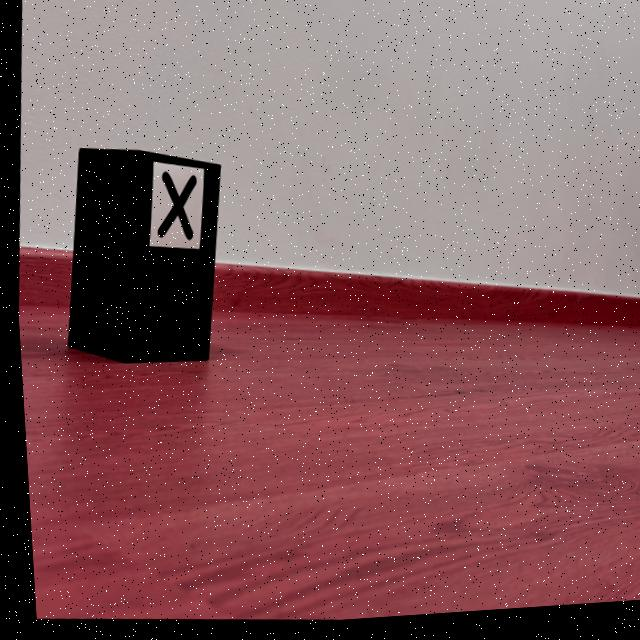X: (154, 173, 194, 242)
